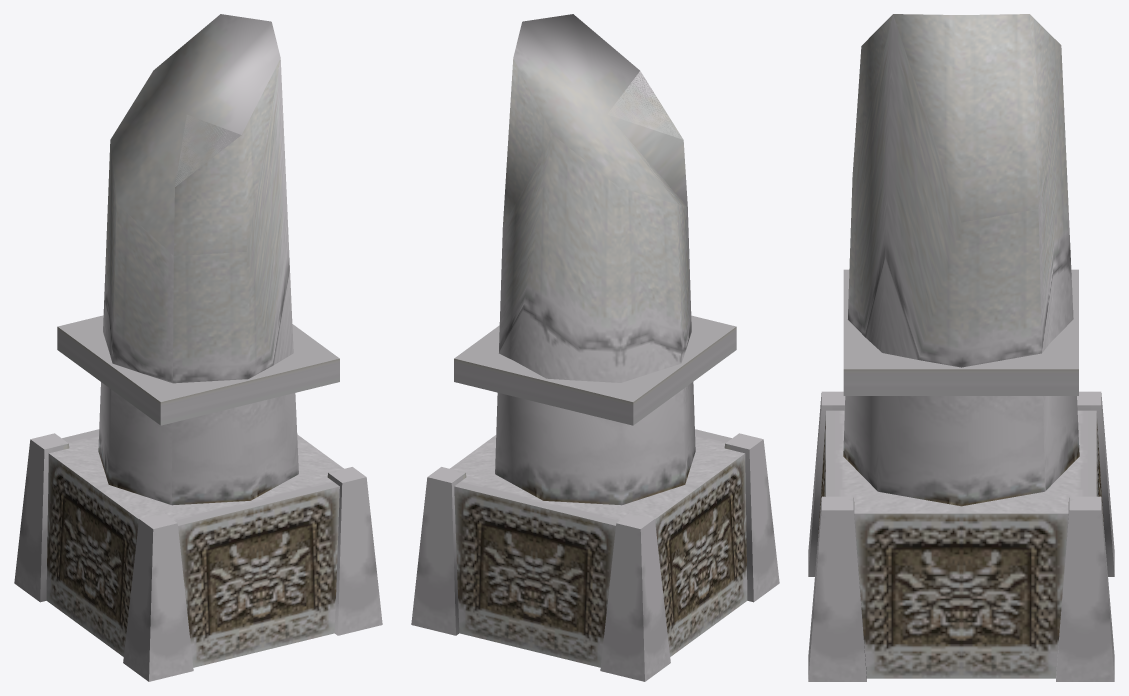
File: general_obj_bigtower01_lod_01.glb
The picture shows the model from 3 angles, left to right: view 1: azimuth 30°, elevation 25°; view 2: azimuth 150°, elevation 25°; view 3: azimuth 270°, elevation 25°; orthographic projection. The views are drawn at different scales.
Visible parts, largest first — view 1: Sphere01; view 2: Sphere01; view 3: Sphere01.
Boxes of the visible parts, x1,y1,x2,y2 form: Sphere01: (14,14,382,681); Sphere01: (411,14,779,681); Sphere01: (808,14,1114,681).
Bounding box in the file's own units: 5.22 × 12.05 × 5.21.
1 material, 1 textured.
